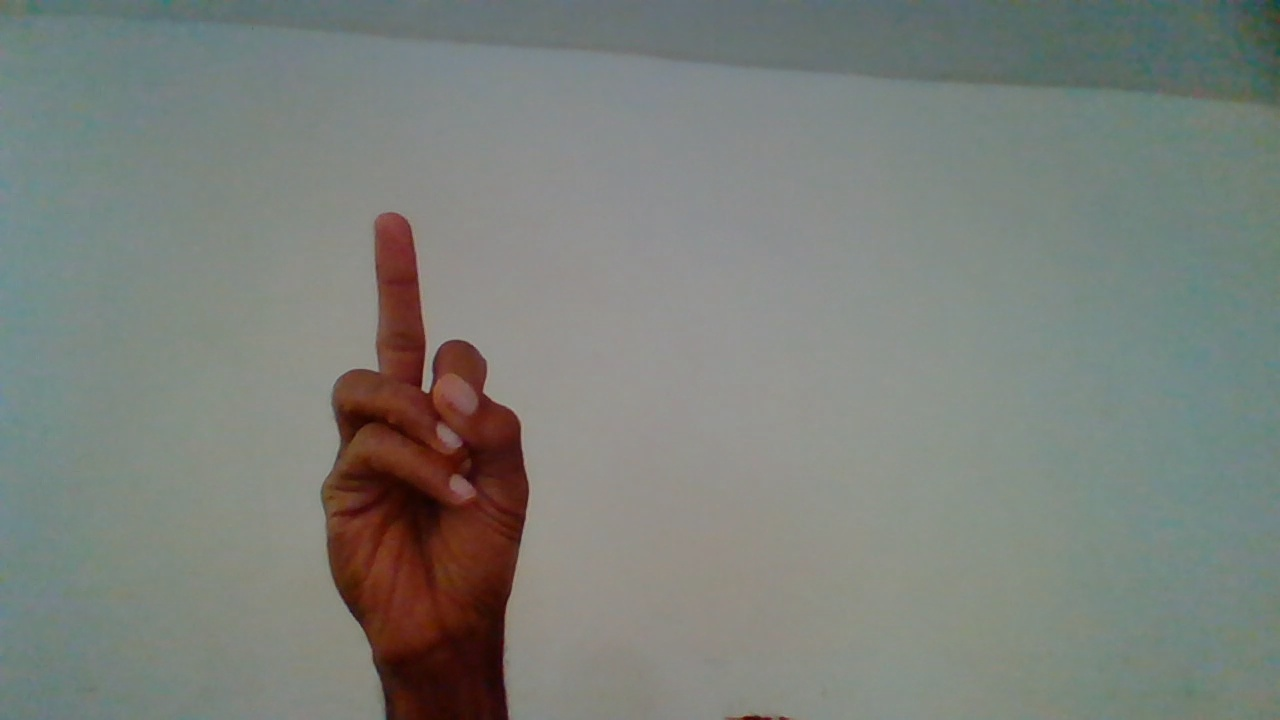he: (322, 210, 533, 705)
